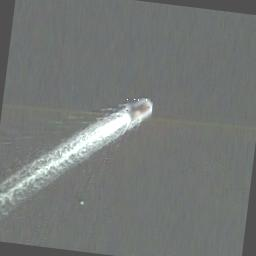boat: (124, 96, 153, 122)
